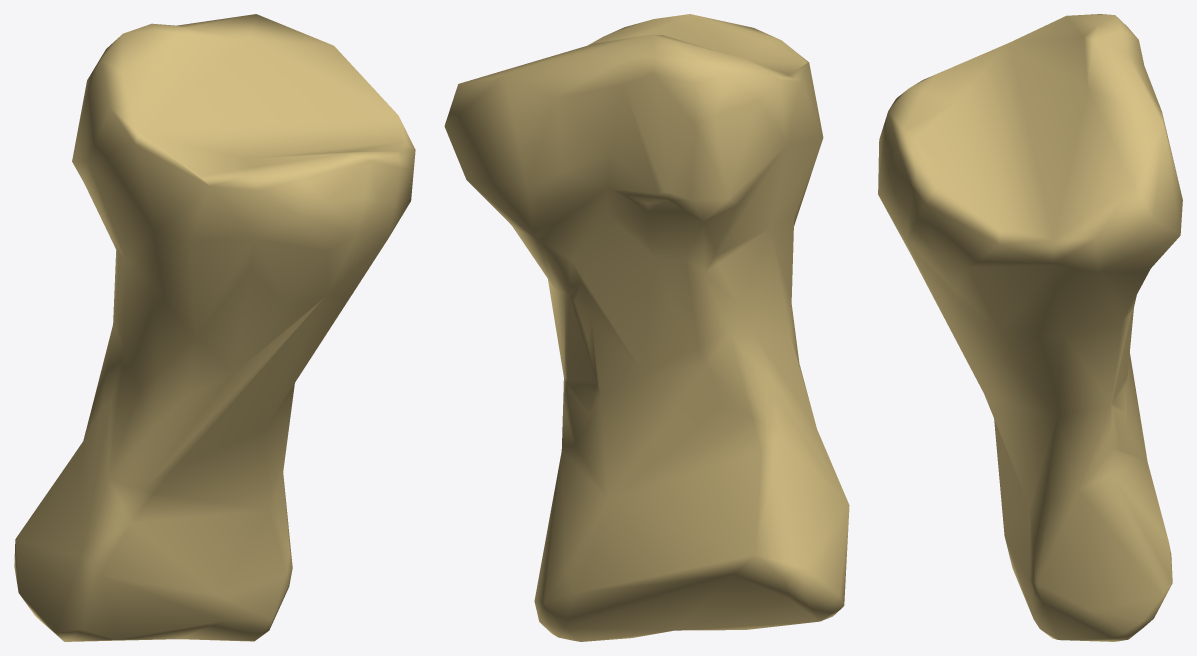
3 renders of one model, left to right at view 1: azimuth 30°, elevation 25°; view 2: azimuth 150°, elevation 25°; view 3: azimuth 270°, elevation 25°, orthographic. The views are drawn at different scales.
Parts seen in each view (by area): view 1: 右侧第三趾中节趾骨; view 2: 右侧第三趾中节趾骨; view 3: 右侧第三趾中节趾骨.
Part boxes in pixels (x1,y1,x2,y2): 右侧第三趾中节趾骨: (14,14,415,641); 右侧第三趾中节趾骨: (444,14,849,641); 右侧第三趾中节趾骨: (878,14,1182,641).
Bounding box in the file's own units: 0.0164 × 0.0257 × 0.0122.
